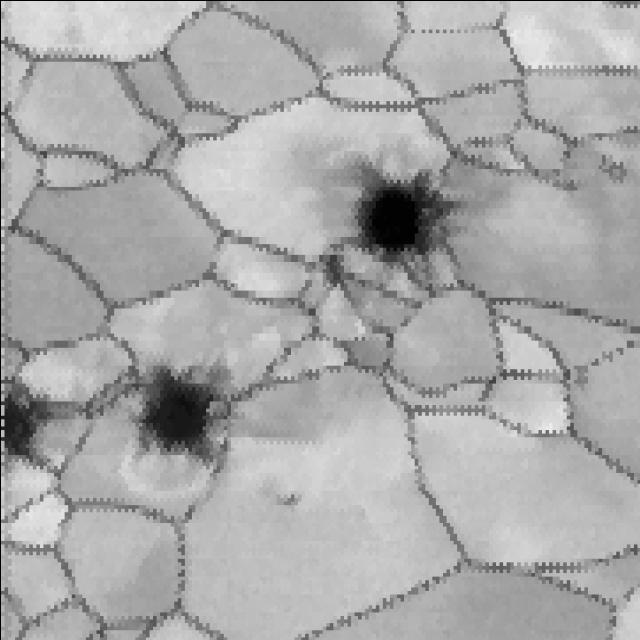good_void: (340, 155, 473, 269), (124, 351, 237, 460), (0, 373, 45, 462), (248, 476, 302, 519), (314, 250, 350, 290), (591, 152, 631, 186)
